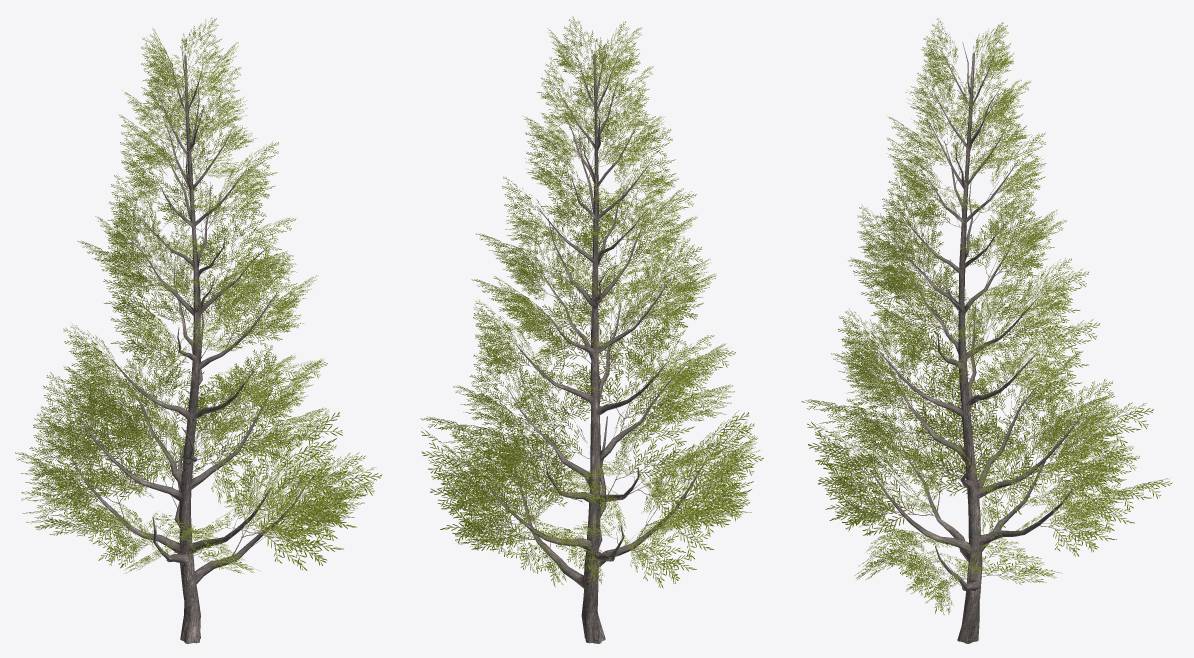
Rendered from spruce.glb.
3 views of the same model, side by side, from view 1: azimuth 30°, elevation 25°; view 2: azimuth 150°, elevation 25°; view 3: azimuth 270°, elevation 25° (orthographic).
Parts seen in each view (by area): view 1: tree; view 2: tree; view 3: tree.
Boxes of the visible parts, x1,y1,x2,y2 form: tree: (15,17,382,643); tree: (420,16,763,643); tree: (801,18,1172,643).
Bounding box in the file's own units: 188 × 335 × 189.
2 materials, 2 textured.
